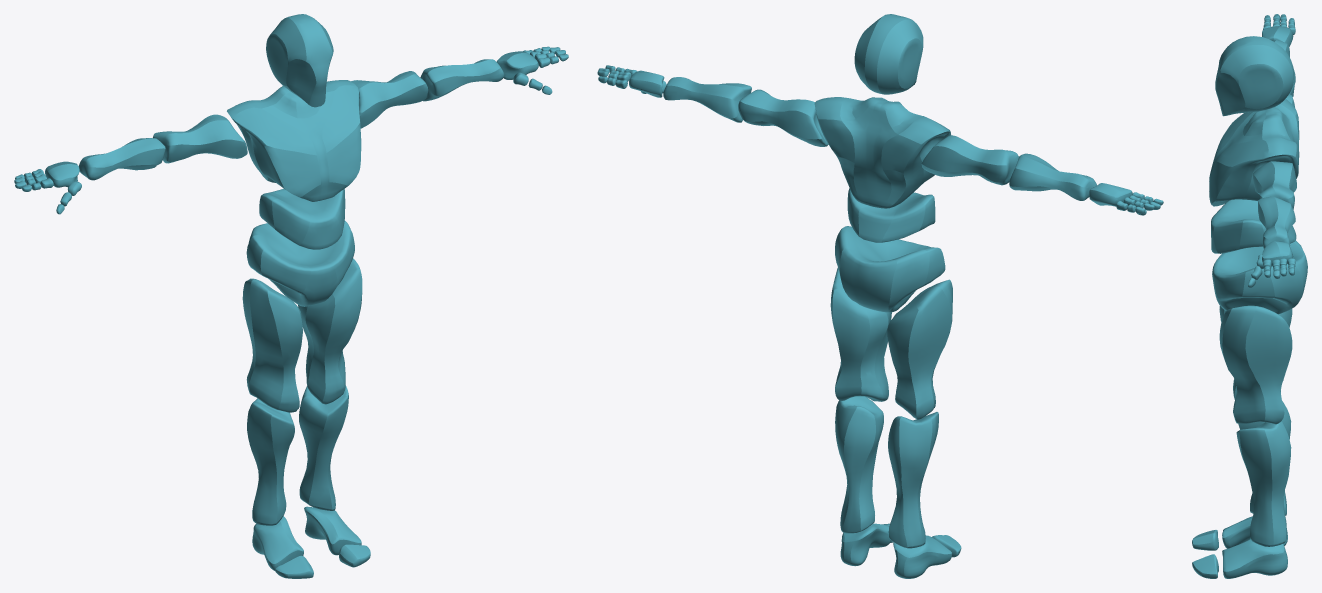
The model's file is YBot.gltf.
The picture shows the model from 3 angles, left to right: view 1: azimuth 30°, elevation 25°; view 2: azimuth 150°, elevation 25°; view 3: azimuth 270°, elevation 25°; orthographic projection. The views are drawn at different scales.
Visible parts, largest first — view 1: Alpha_Surface; view 2: Alpha_Surface; view 3: Alpha_Surface.
Boxes of the visible parts, bbox=[...] form: Alpha_Surface: bbox=[14, 14, 568, 578]; Alpha_Surface: bbox=[597, 14, 1163, 578]; Alpha_Surface: bbox=[1192, 14, 1307, 578].
Bounding box in the file's own units: 1.95 × 1.8 × 0.3643.
